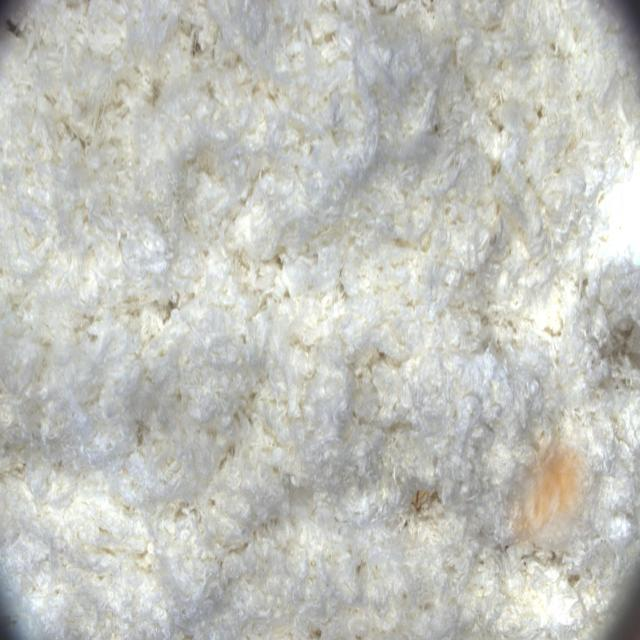dust: (499, 430, 601, 551)
